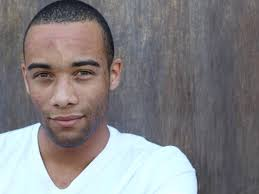black_male: (12, 1, 131, 145)
